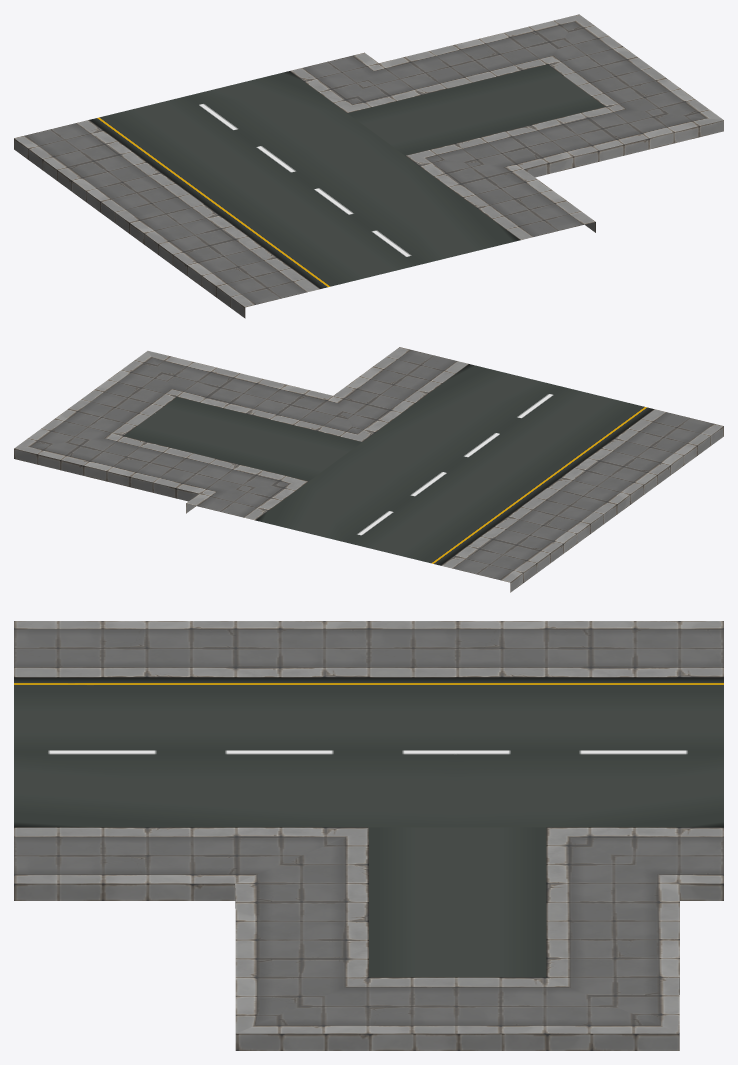
Rendered from Road5.fbx.
3 views of the same model, one above another, from view 1: azimuth 30°, elevation 25°; view 2: azimuth 150°, elevation 25°; view 3: azimuth 270°, elevation 25° (orthographic). The views are drawn at different scales.
Parts seen in each view (by area): view 1: polySurface30; view 2: polySurface30; view 3: polySurface30.
Part boxes in pixels (<box>): polySurface30: <box>14,14,723,318</box>; polySurface30: <box>14,347,723,592</box>; polySurface30: <box>14,621,723,1050</box>.
Size of the model in its own units: 16.51 by 0.3202 by 12.
